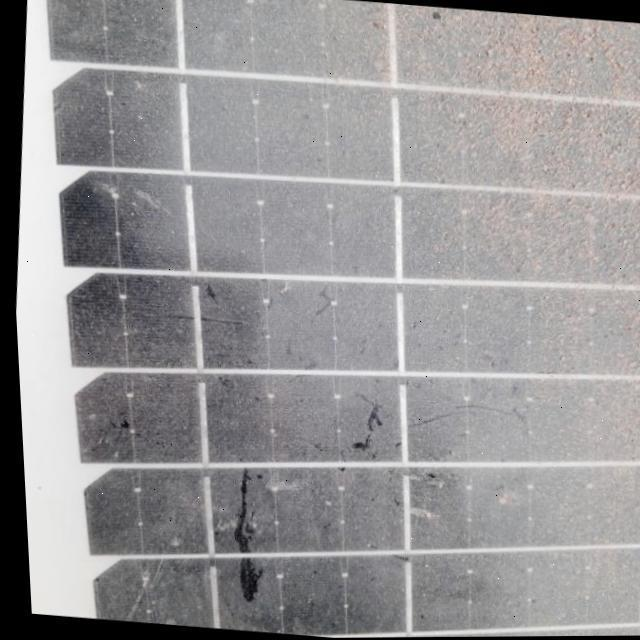Anomaly Solar Panel: (2, 49, 640, 640)
Surface Contaminant: (22, 53, 640, 638)
